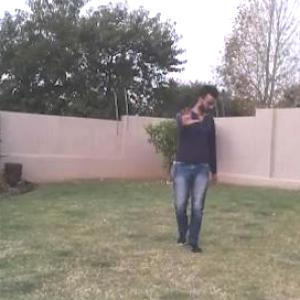follow_hand: (176, 99, 201, 127)
